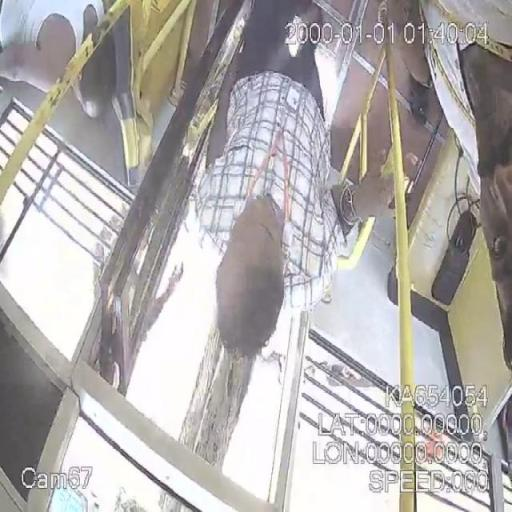persona: (194, 2, 384, 404), (0, 0, 132, 126)
